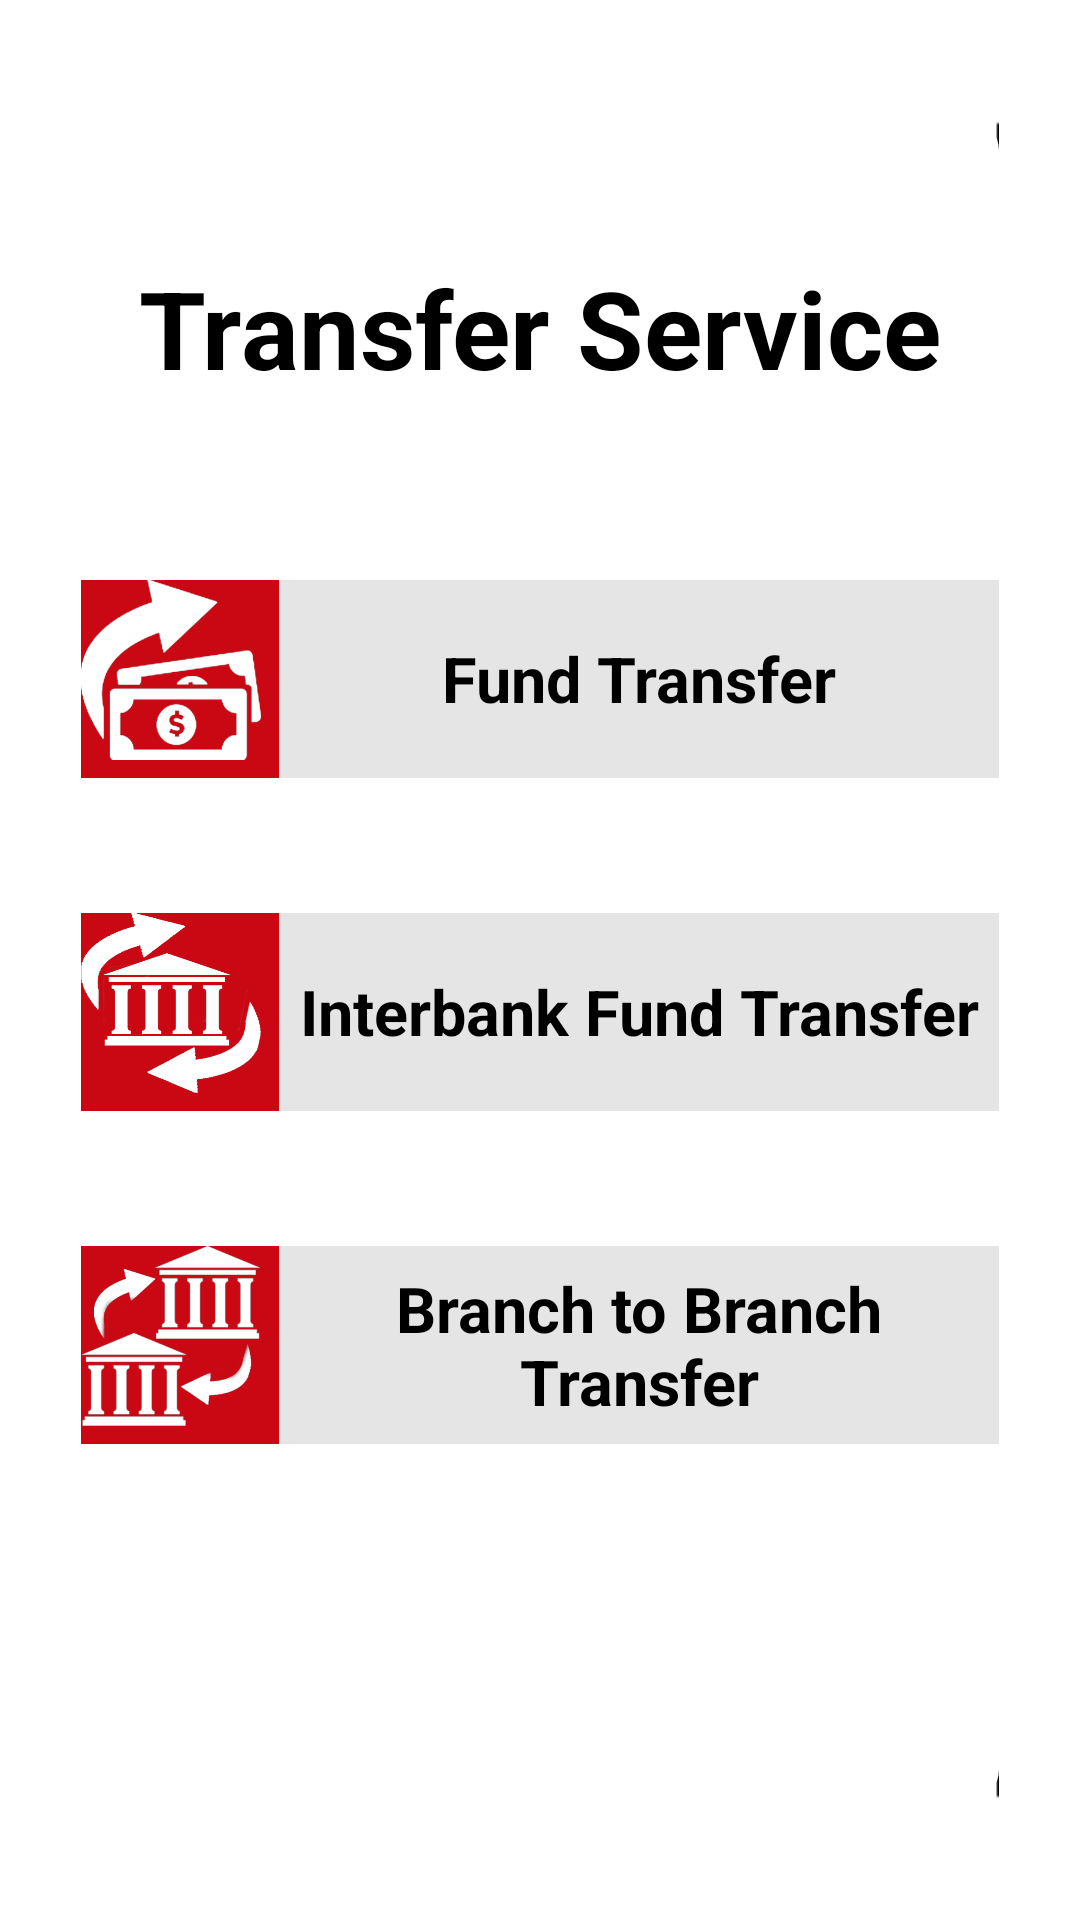

Icon click points for this 1080×1920 phone screenshot, format [x,y]:
money transfer: [171,670]
